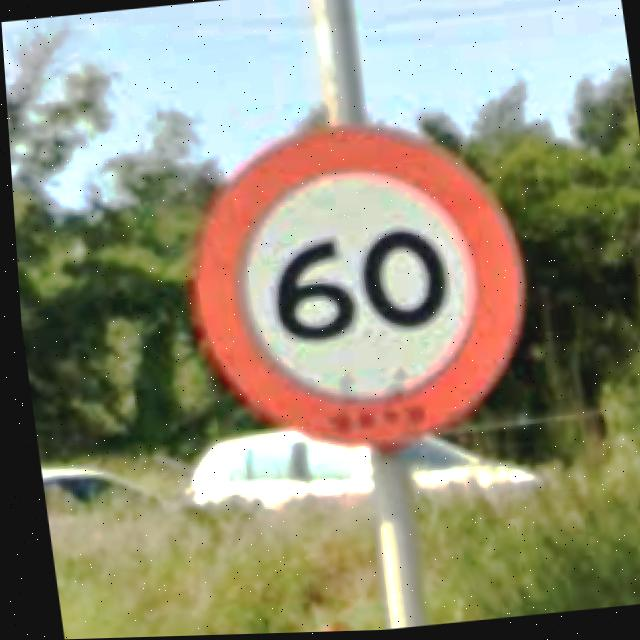max60: (159, 104, 544, 467)
